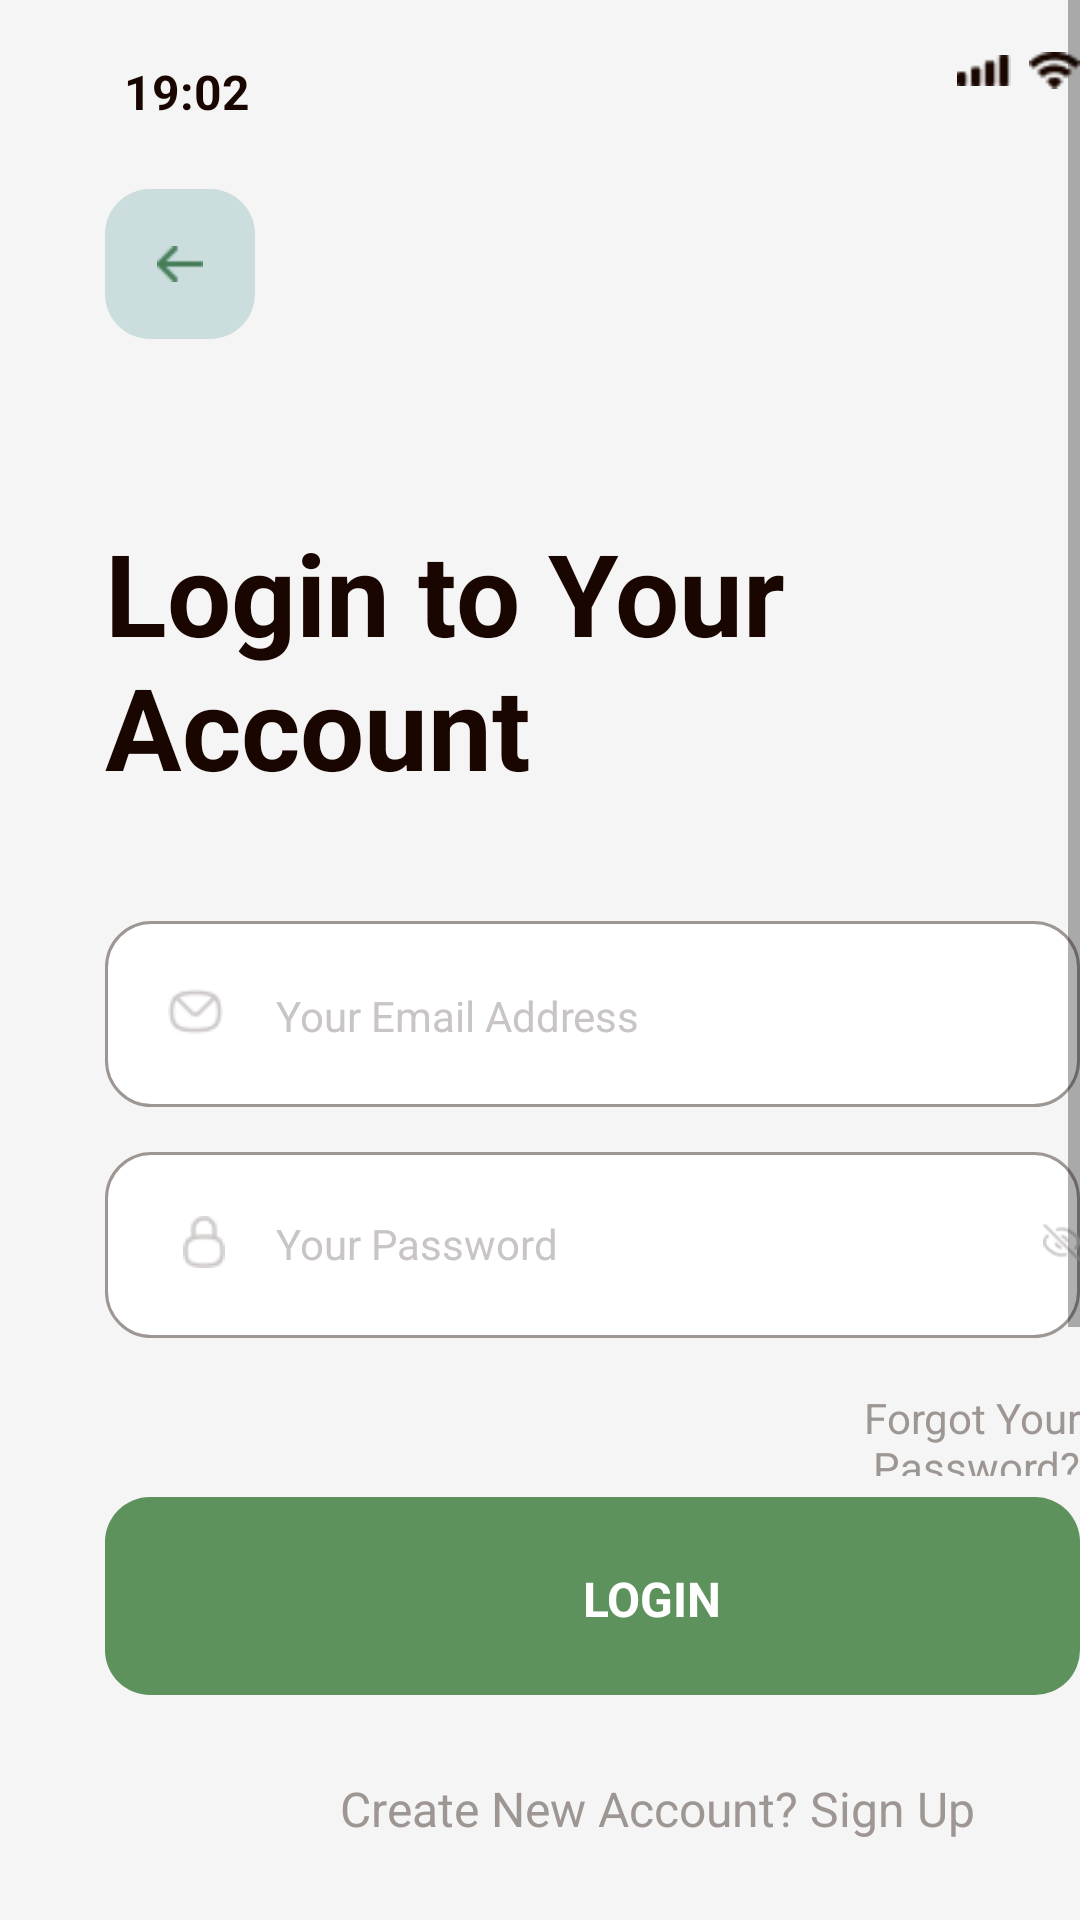

Icons on this 1080×1920 Android screen, each with its box as box(x1, y1, x2, y2):
reception: box(957, 55, 1011, 86)
wifi: box(1029, 51, 1080, 90)
